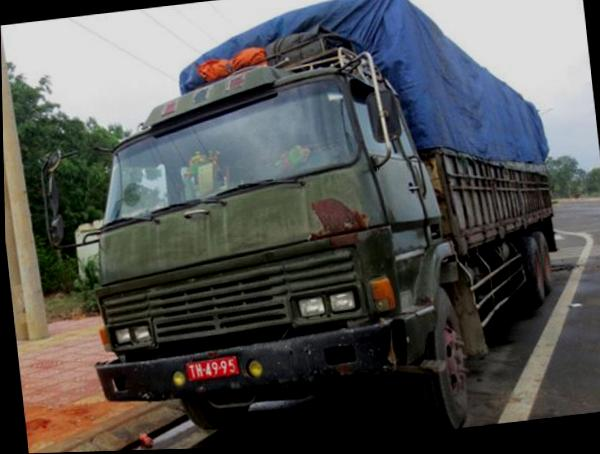License_Plate: (183, 353, 247, 384)
